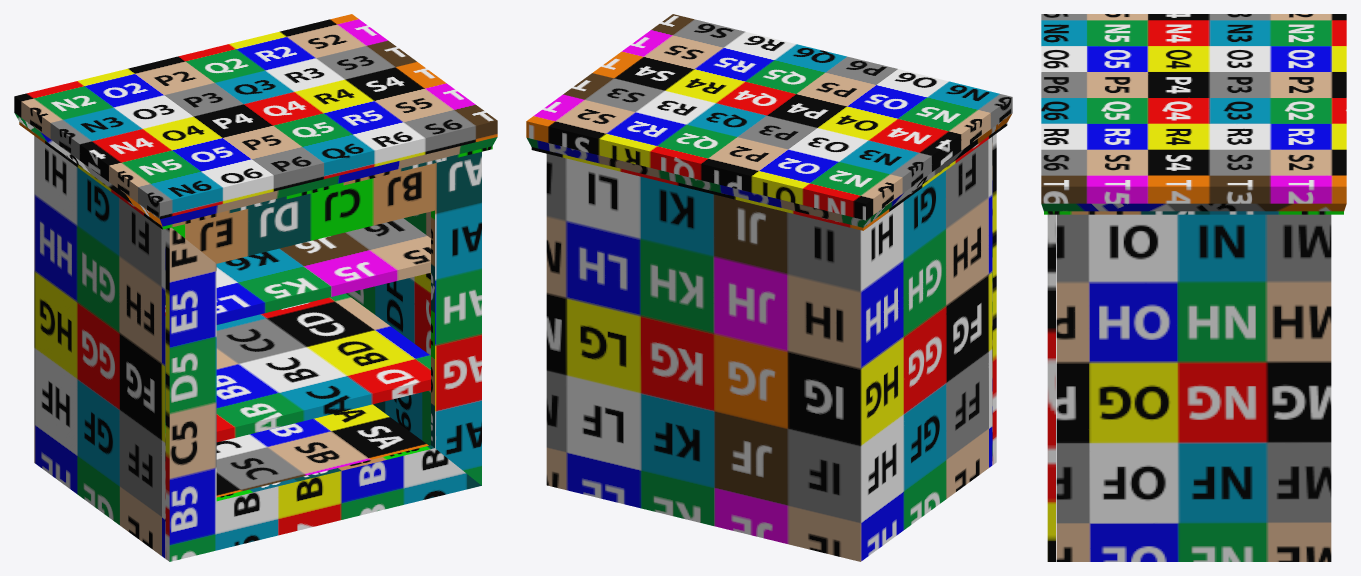
File: cabinet3.FBX
3 views of the same model, side by side, from view 1: azimuth 30°, elevation 25°; view 2: azimuth 150°, elevation 25°; view 3: azimuth 270°, elevation 25° (orthographic). The views are drawn at different scales.
Parts seen in each view (by area): view 1: Box004, cabinet3; view 2: Box004, cabinet3; view 3: Box004, cabinet3.
Part boxes in pixels (bbox=[...]): Box004: bbox=[14, 14, 497, 558]; cabinet3: bbox=[165, 152, 481, 561]; Box004: bbox=[526, 14, 1012, 561]; cabinet3: bbox=[992, 133, 996, 465]; Box004: bbox=[1041, 14, 1346, 561]; cabinet3: bbox=[1047, 214, 1055, 561].
Bounding box in the file's own units: 0.8262 × 0.8517 × 0.6171.
Materials: 1 (1 with a texture image).
